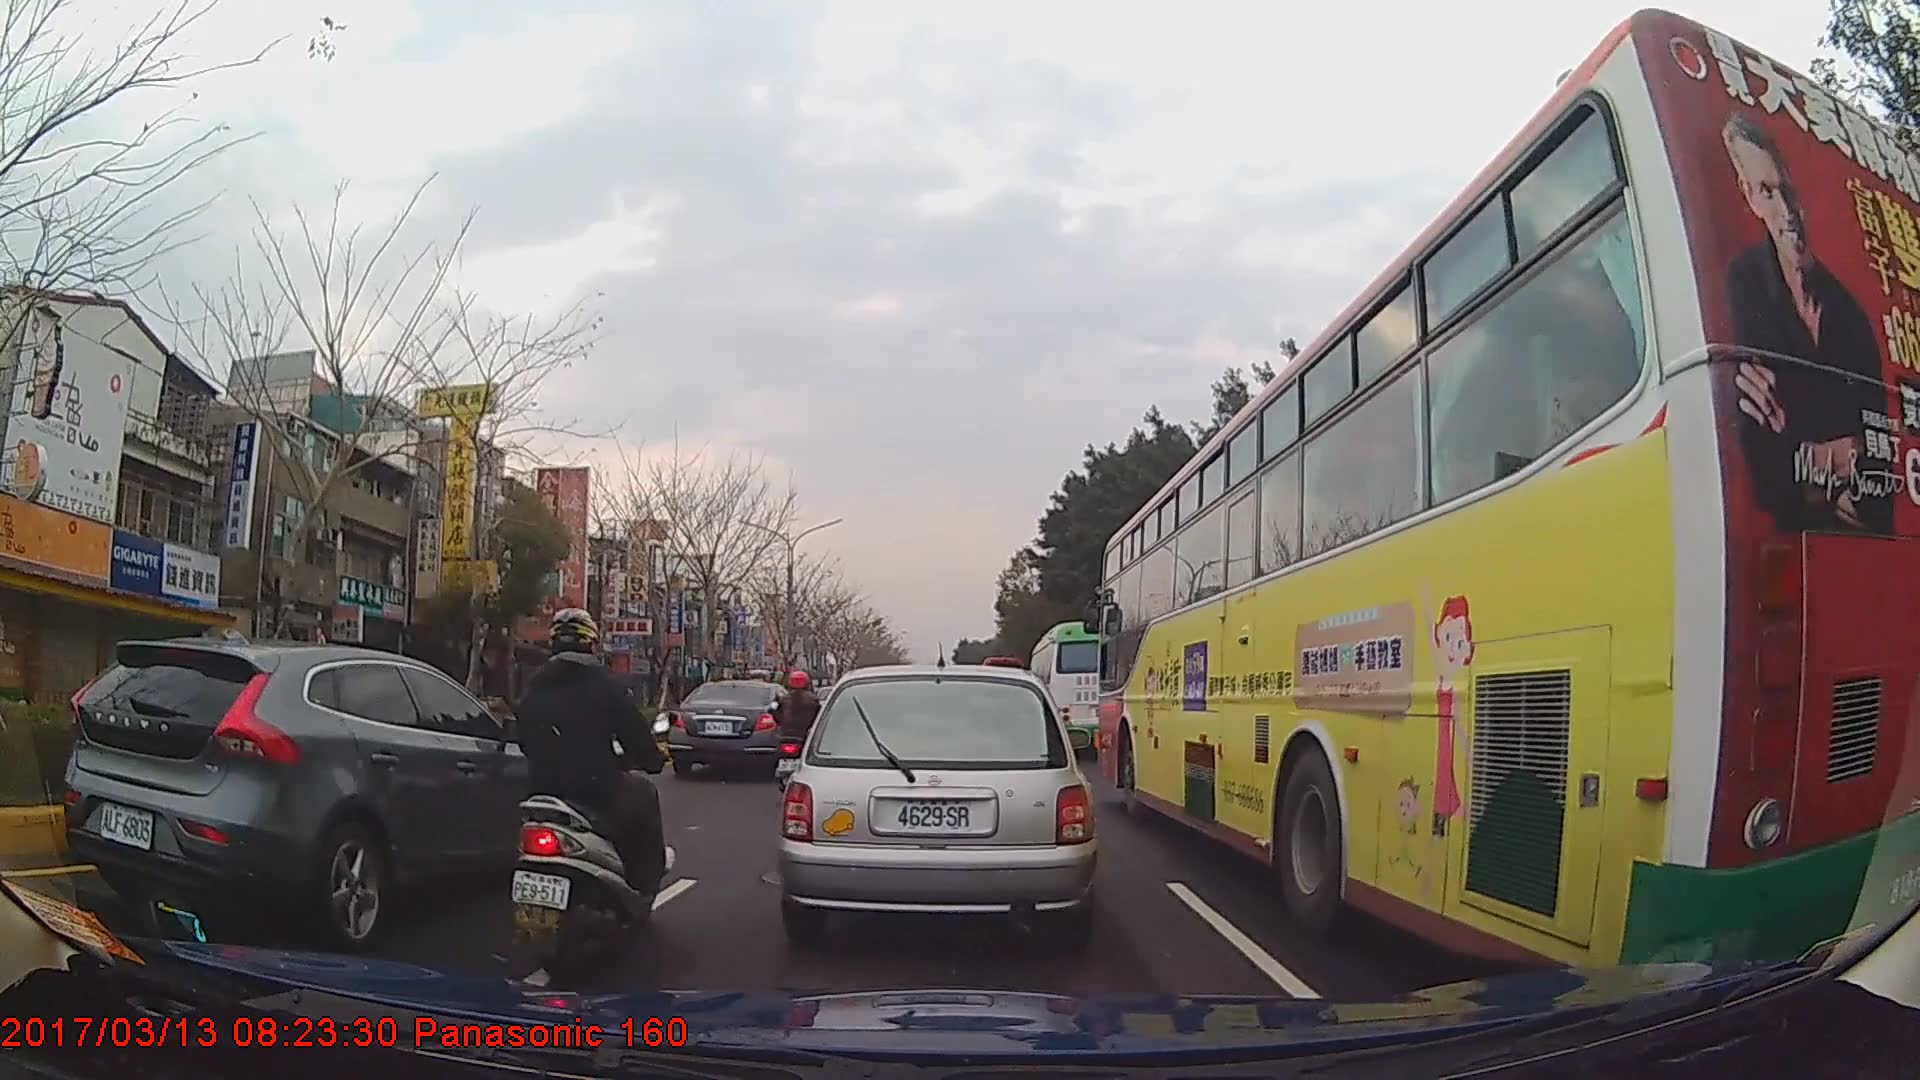rider: (510, 606, 670, 977), (771, 670, 829, 789)
vehicle: (1095, 6, 1920, 988), (63, 635, 572, 944), (779, 657, 1101, 941), (1027, 617, 1138, 757), (669, 676, 804, 778)
